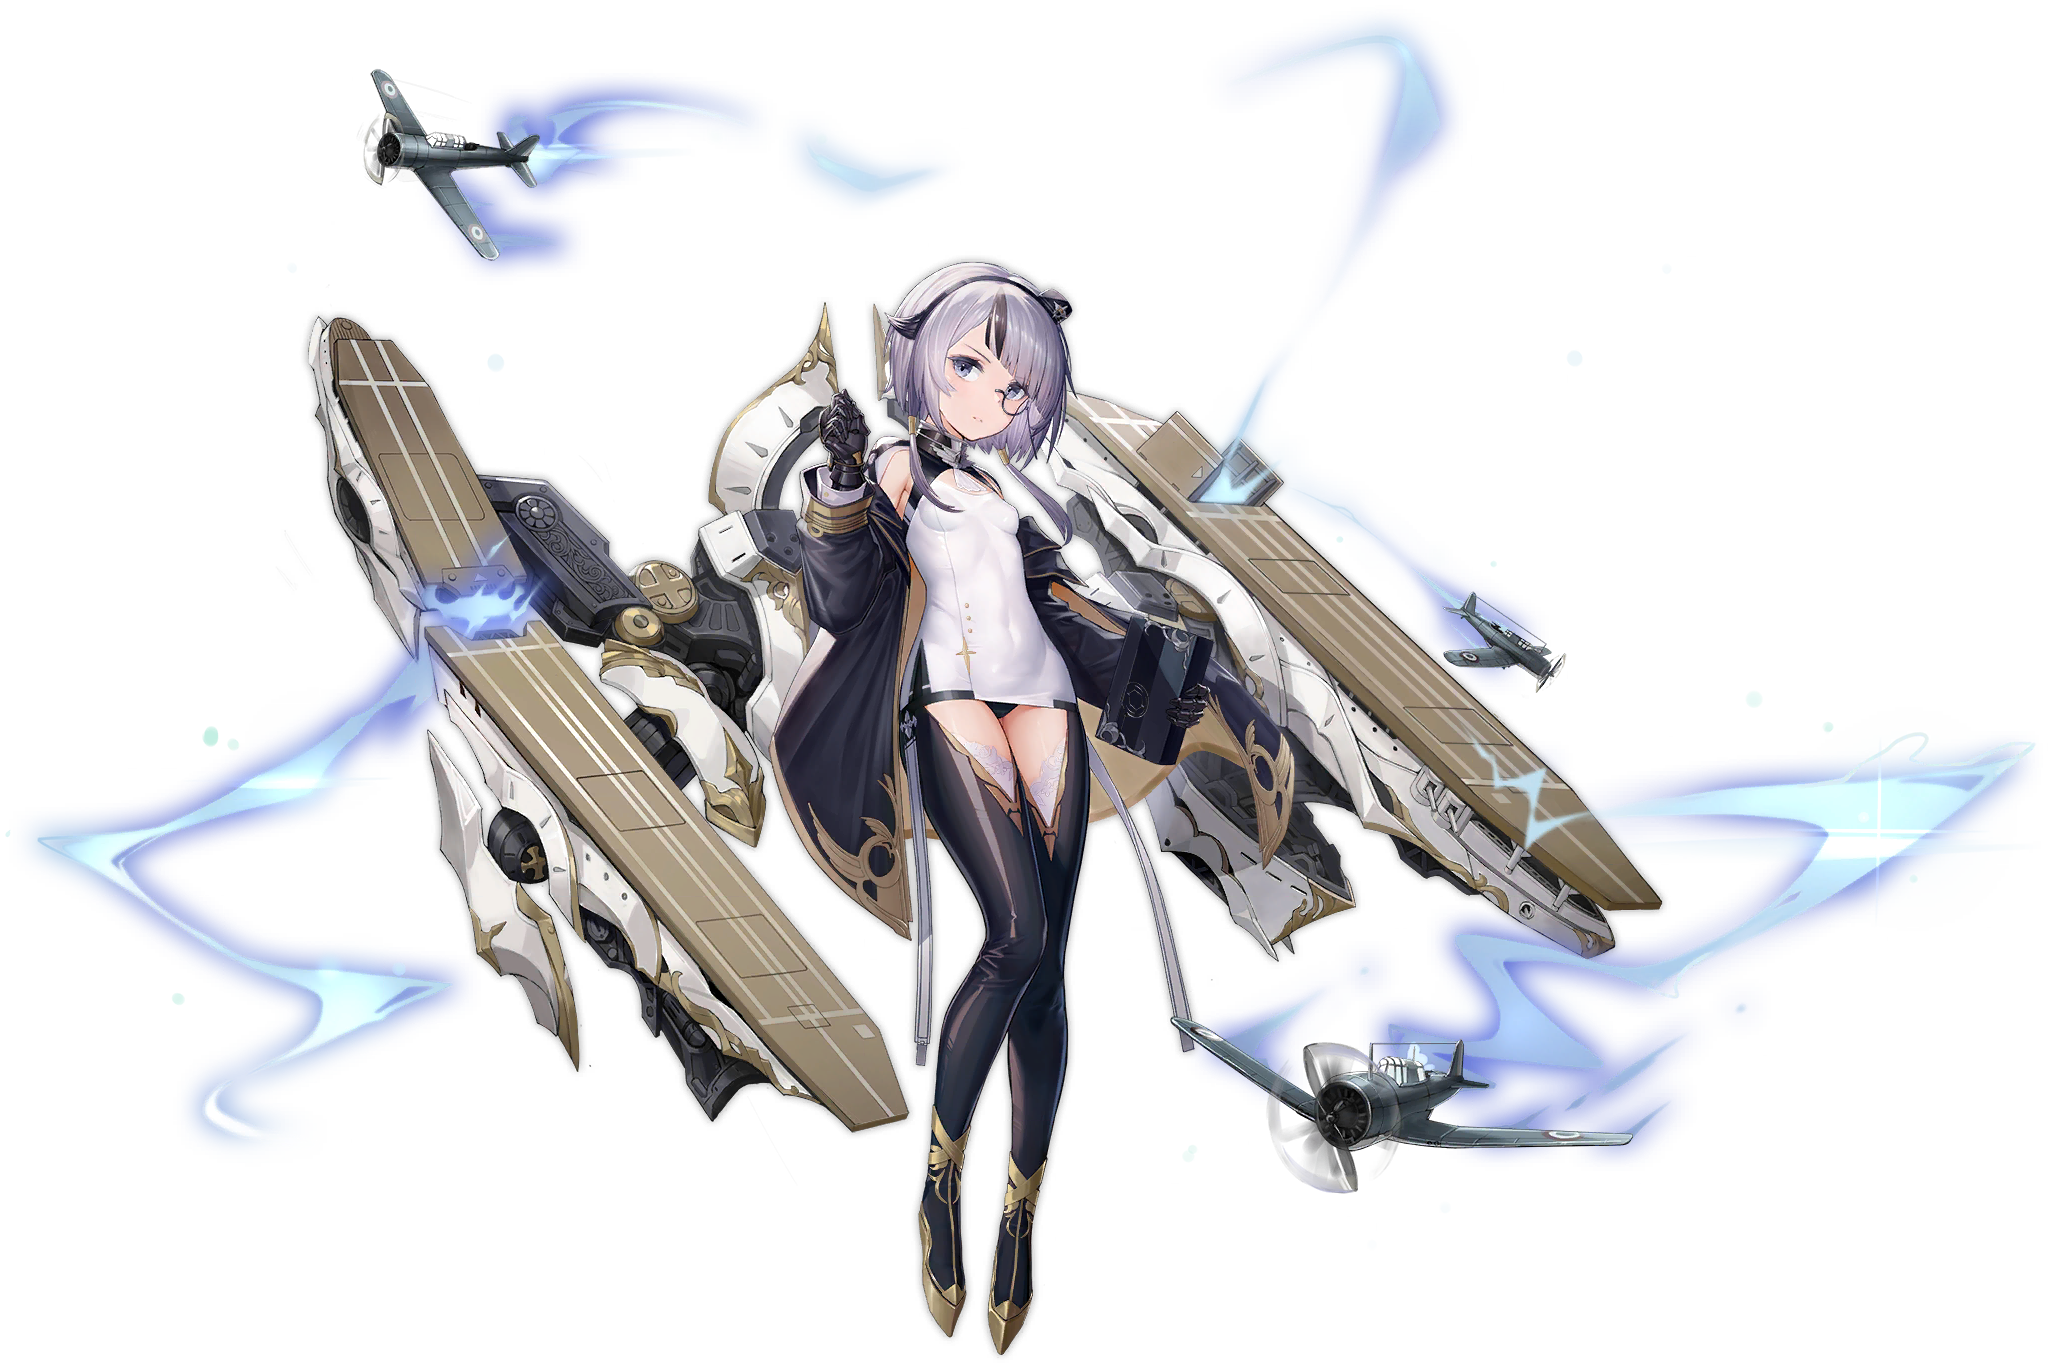person: (734, 257, 1172, 1021)
